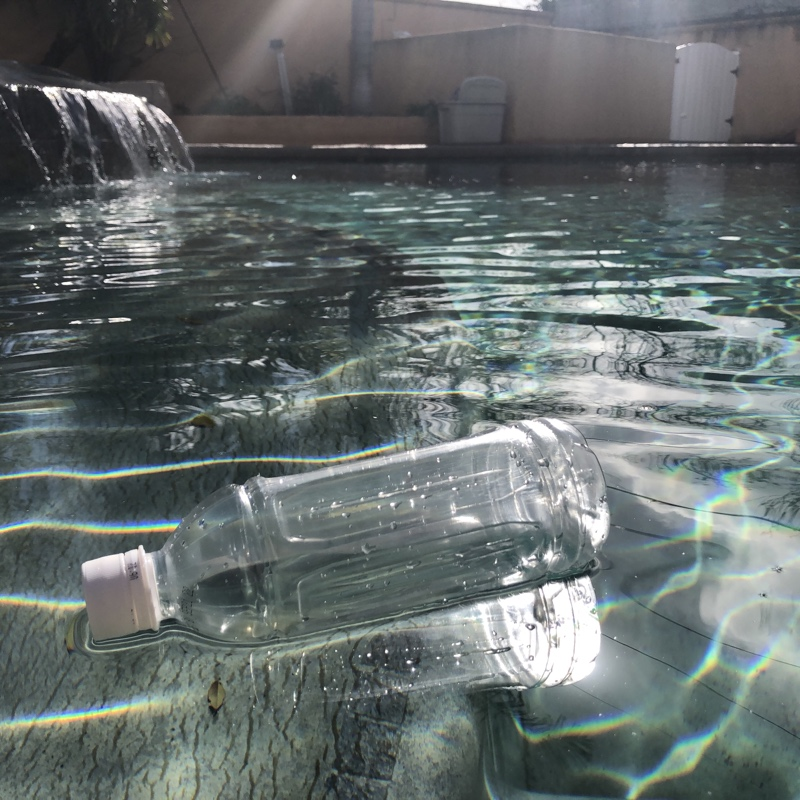Plastic Bottle: (72, 412, 614, 659)
